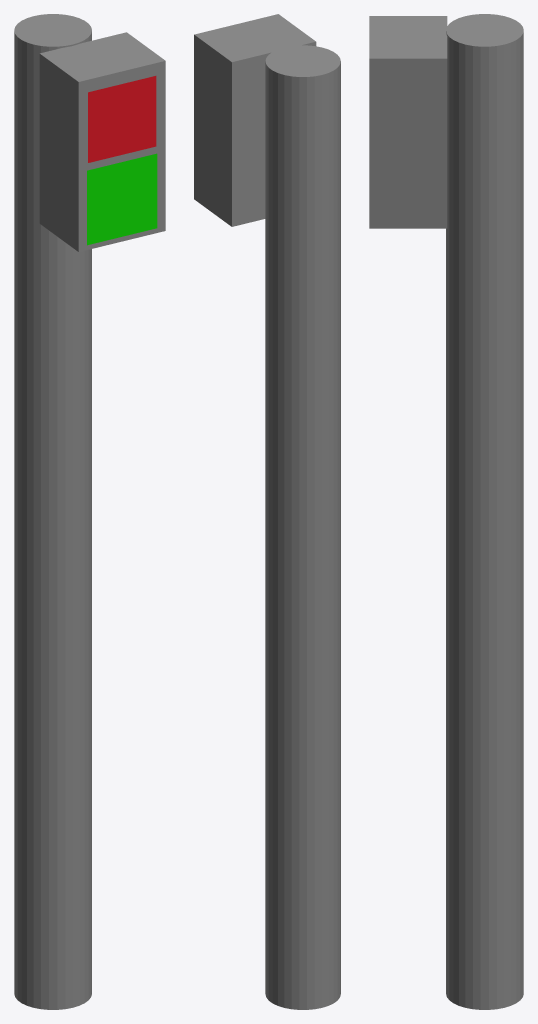
Rendered from traffic_semaphore_person.gltf.
3 views of the same model, side by side, from view 1: azimuth 30°, elevation 25°; view 2: azimuth 210°, elevation 25°; view 3: azimuth 270°, elevation 25° (orthographic). The views are drawn at different scales.
Parts seen in each view (by area): view 1: RootNode; view 2: RootNode; view 3: RootNode.
Boxes of the visible parts, left/top/right/bottom form: RootNode: left=14, top=14, right=165, bottom=1009; RootNode: left=194, top=14, right=340, bottom=1009; RootNode: left=369, top=14, right=523, bottom=1009.
Bounding box in the file's own units: 0.6285 × 6.55 × 0.9535.
